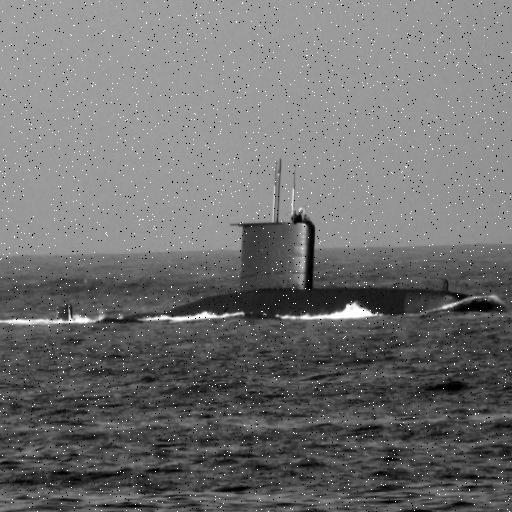submarine: (58, 149, 506, 320)
